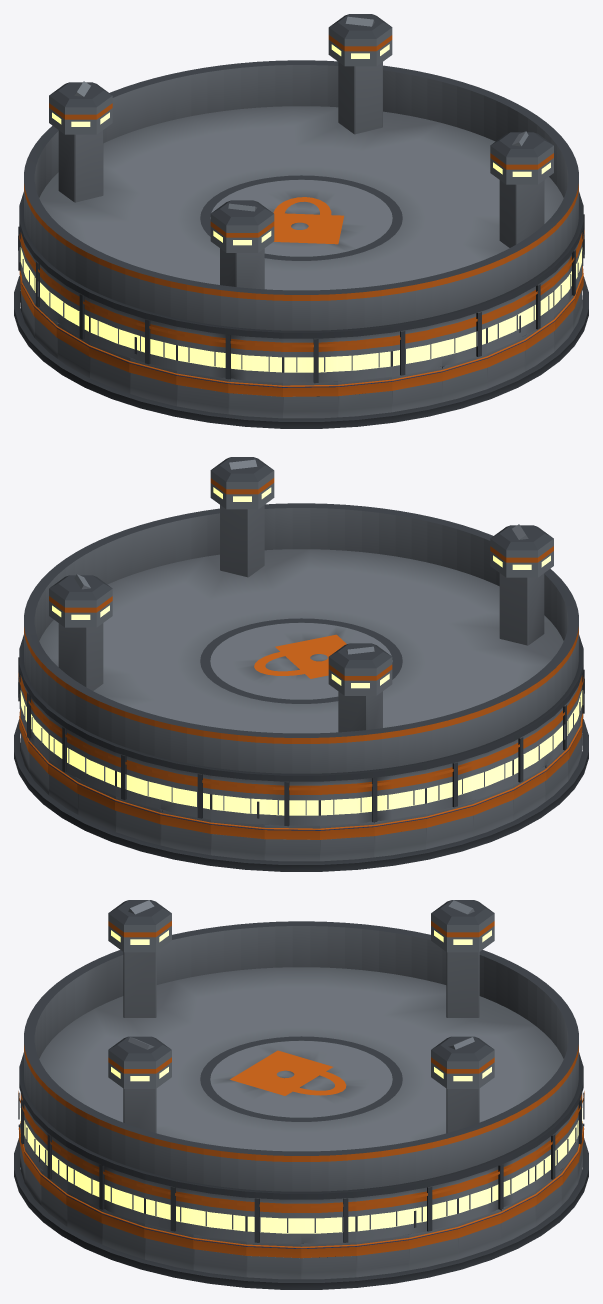
Rendered from jail_l_far.glb.
The picture shows the model from 3 angles, top to bottom: view 1: azimuth 30°, elevation 25°; view 2: azimuth 150°, elevation 25°; view 3: azimuth 270°, elevation 25°; orthographic projection.
Visible parts, largest first — view 1: Roof, Base; view 2: Roof, Base; view 3: Roof, Base.
Part boxes in pixels (bbox=[...]): Roof: bbox=[18, 14, 584, 383]; Base: bbox=[14, 266, 588, 428]; Roof: bbox=[18, 457, 584, 826]; Base: bbox=[14, 709, 588, 871]; Roof: bbox=[18, 900, 584, 1243]; Base: bbox=[14, 1121, 588, 1289].
Bounding box in the file's own units: 18.96 × 7.13 × 18.96.
